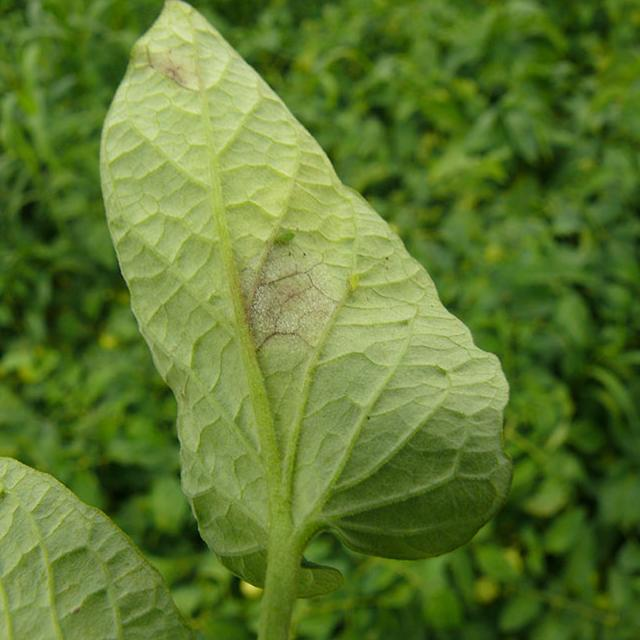Tomato leaf late blight: (88, 0, 539, 608)
